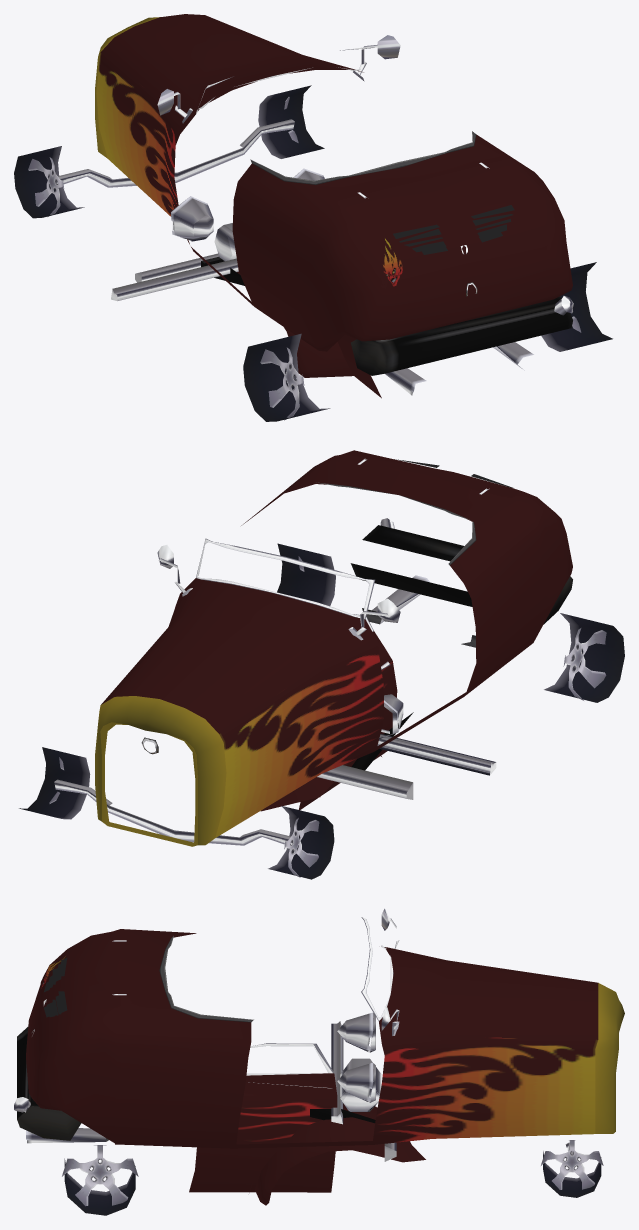
Rendered from car-HSPC_Car23.glb.
3 views of the same model, one above another, from view 1: azimuth 30°, elevation 25°; view 2: azimuth 150°, elevation 25°; view 3: azimuth 270°, elevation 25° (orthographic). The views are drawn at different scales.
Parts seen in each view (by area): view 1: HSPC_Car23; view 2: HSPC_Car23; view 3: HSPC_Car23.
Boxes of the visible parts, x1,y1,x2,y2 form: HSPC_Car23: (14, 14, 612, 421); HSPC_Car23: (19, 450, 624, 879); HSPC_Car23: (14, 908, 624, 1215).
Size of the model in its own units: 2.34 by 1.68 by 3.77.
Materials: 19 (19 with a texture image).
